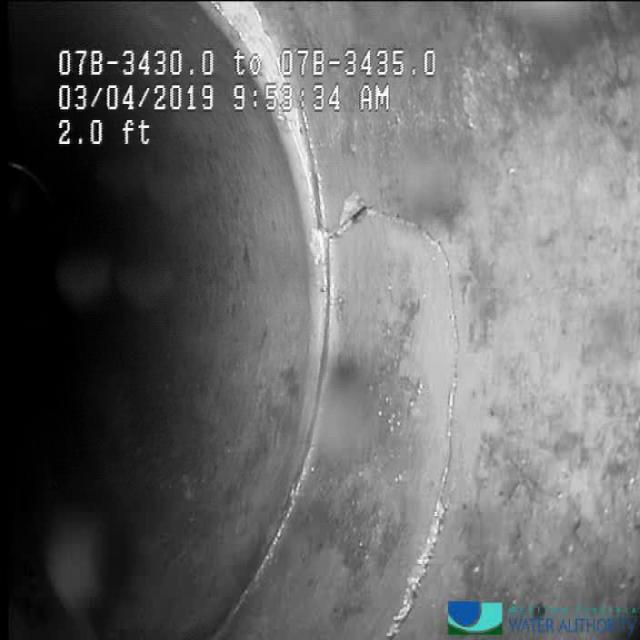Crack: (358, 178, 491, 615)
